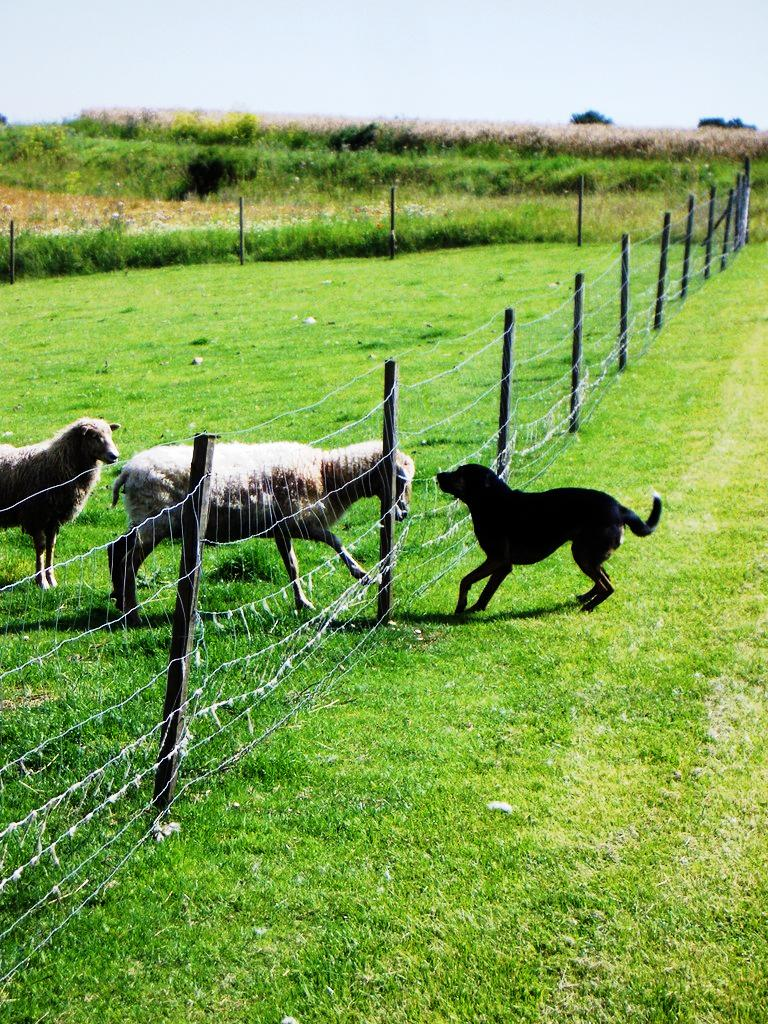Sheep: (107, 444, 415, 610), (0, 418, 117, 582)
